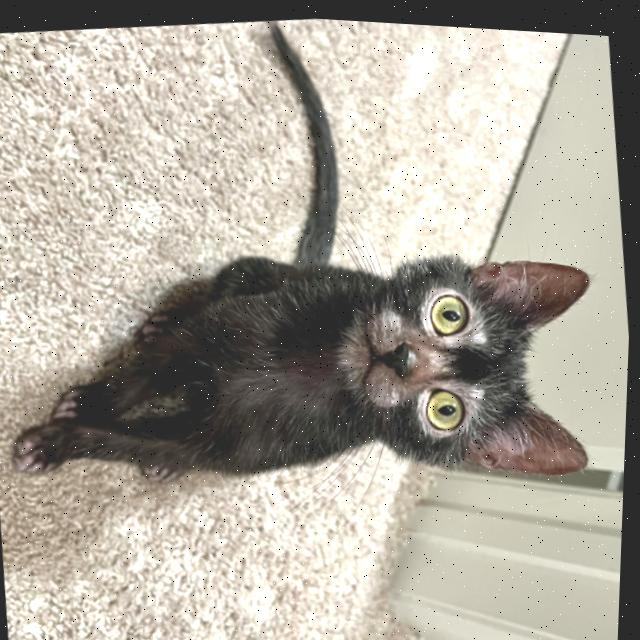Lykoi: (0, 0, 626, 536)
